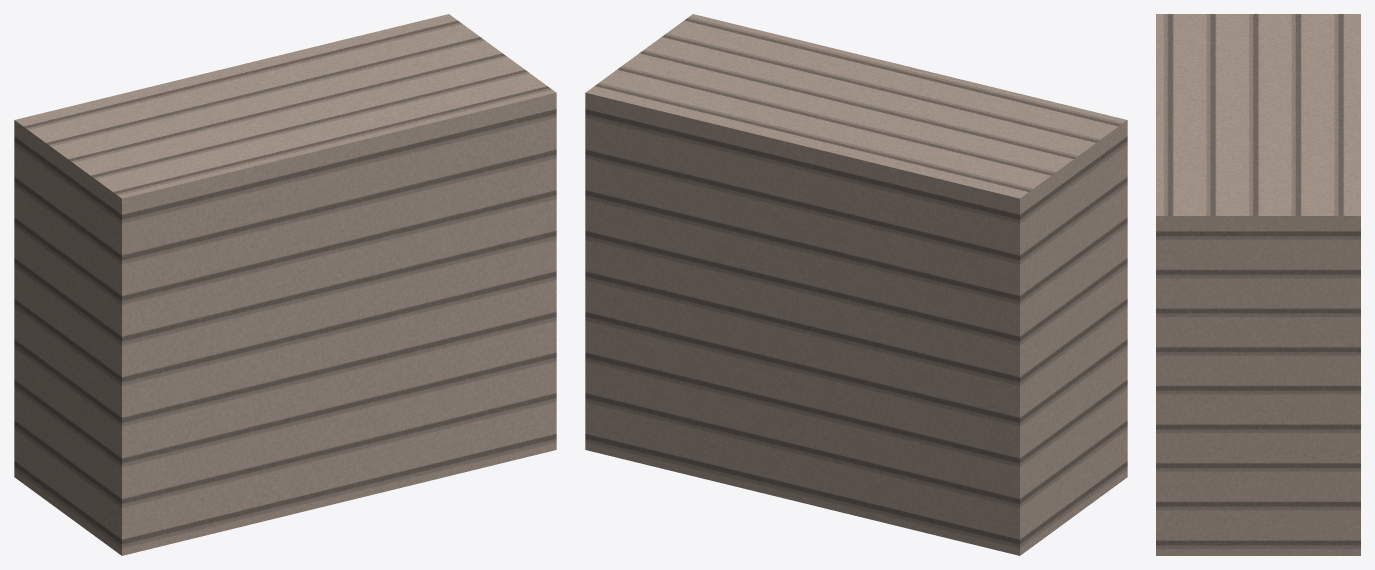
Rendered from piano_organ.glb.
The picture shows the model from 3 angles, left to right: view 1: azimuth 30°, elevation 25°; view 2: azimuth 150°, elevation 25°; view 3: azimuth 270°, elevation 25°; orthographic projection. The views are drawn at different scales.
Visible parts, largest first — view 1: piano_organ-col; view 2: piano_organ-col; view 3: piano_organ-col.
Boxes of the visible parts, x1,y1,x2,y2 form: piano_organ-col: (14, 14, 556, 555); piano_organ-col: (585, 14, 1127, 555); piano_organ-col: (1156, 14, 1360, 555).
Size of the model in its own units: 1.4 by 1.1 by 0.6.
Materials: 1 (1 with a texture image).
